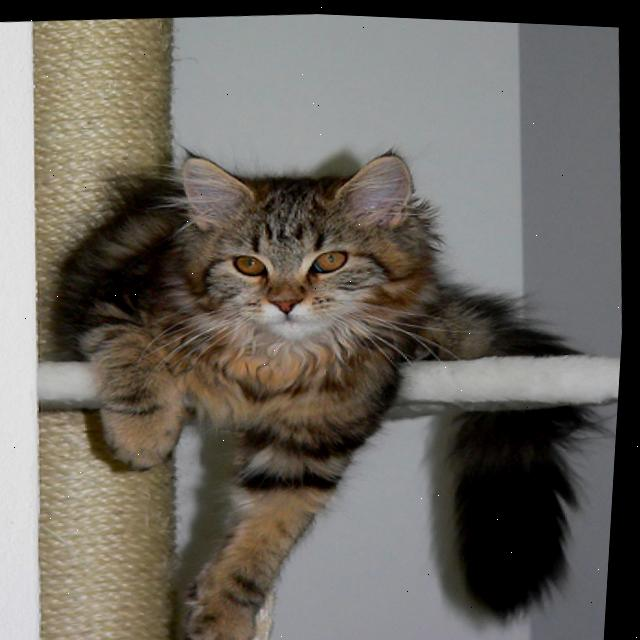Maine Coon: (32, 114, 623, 640)
